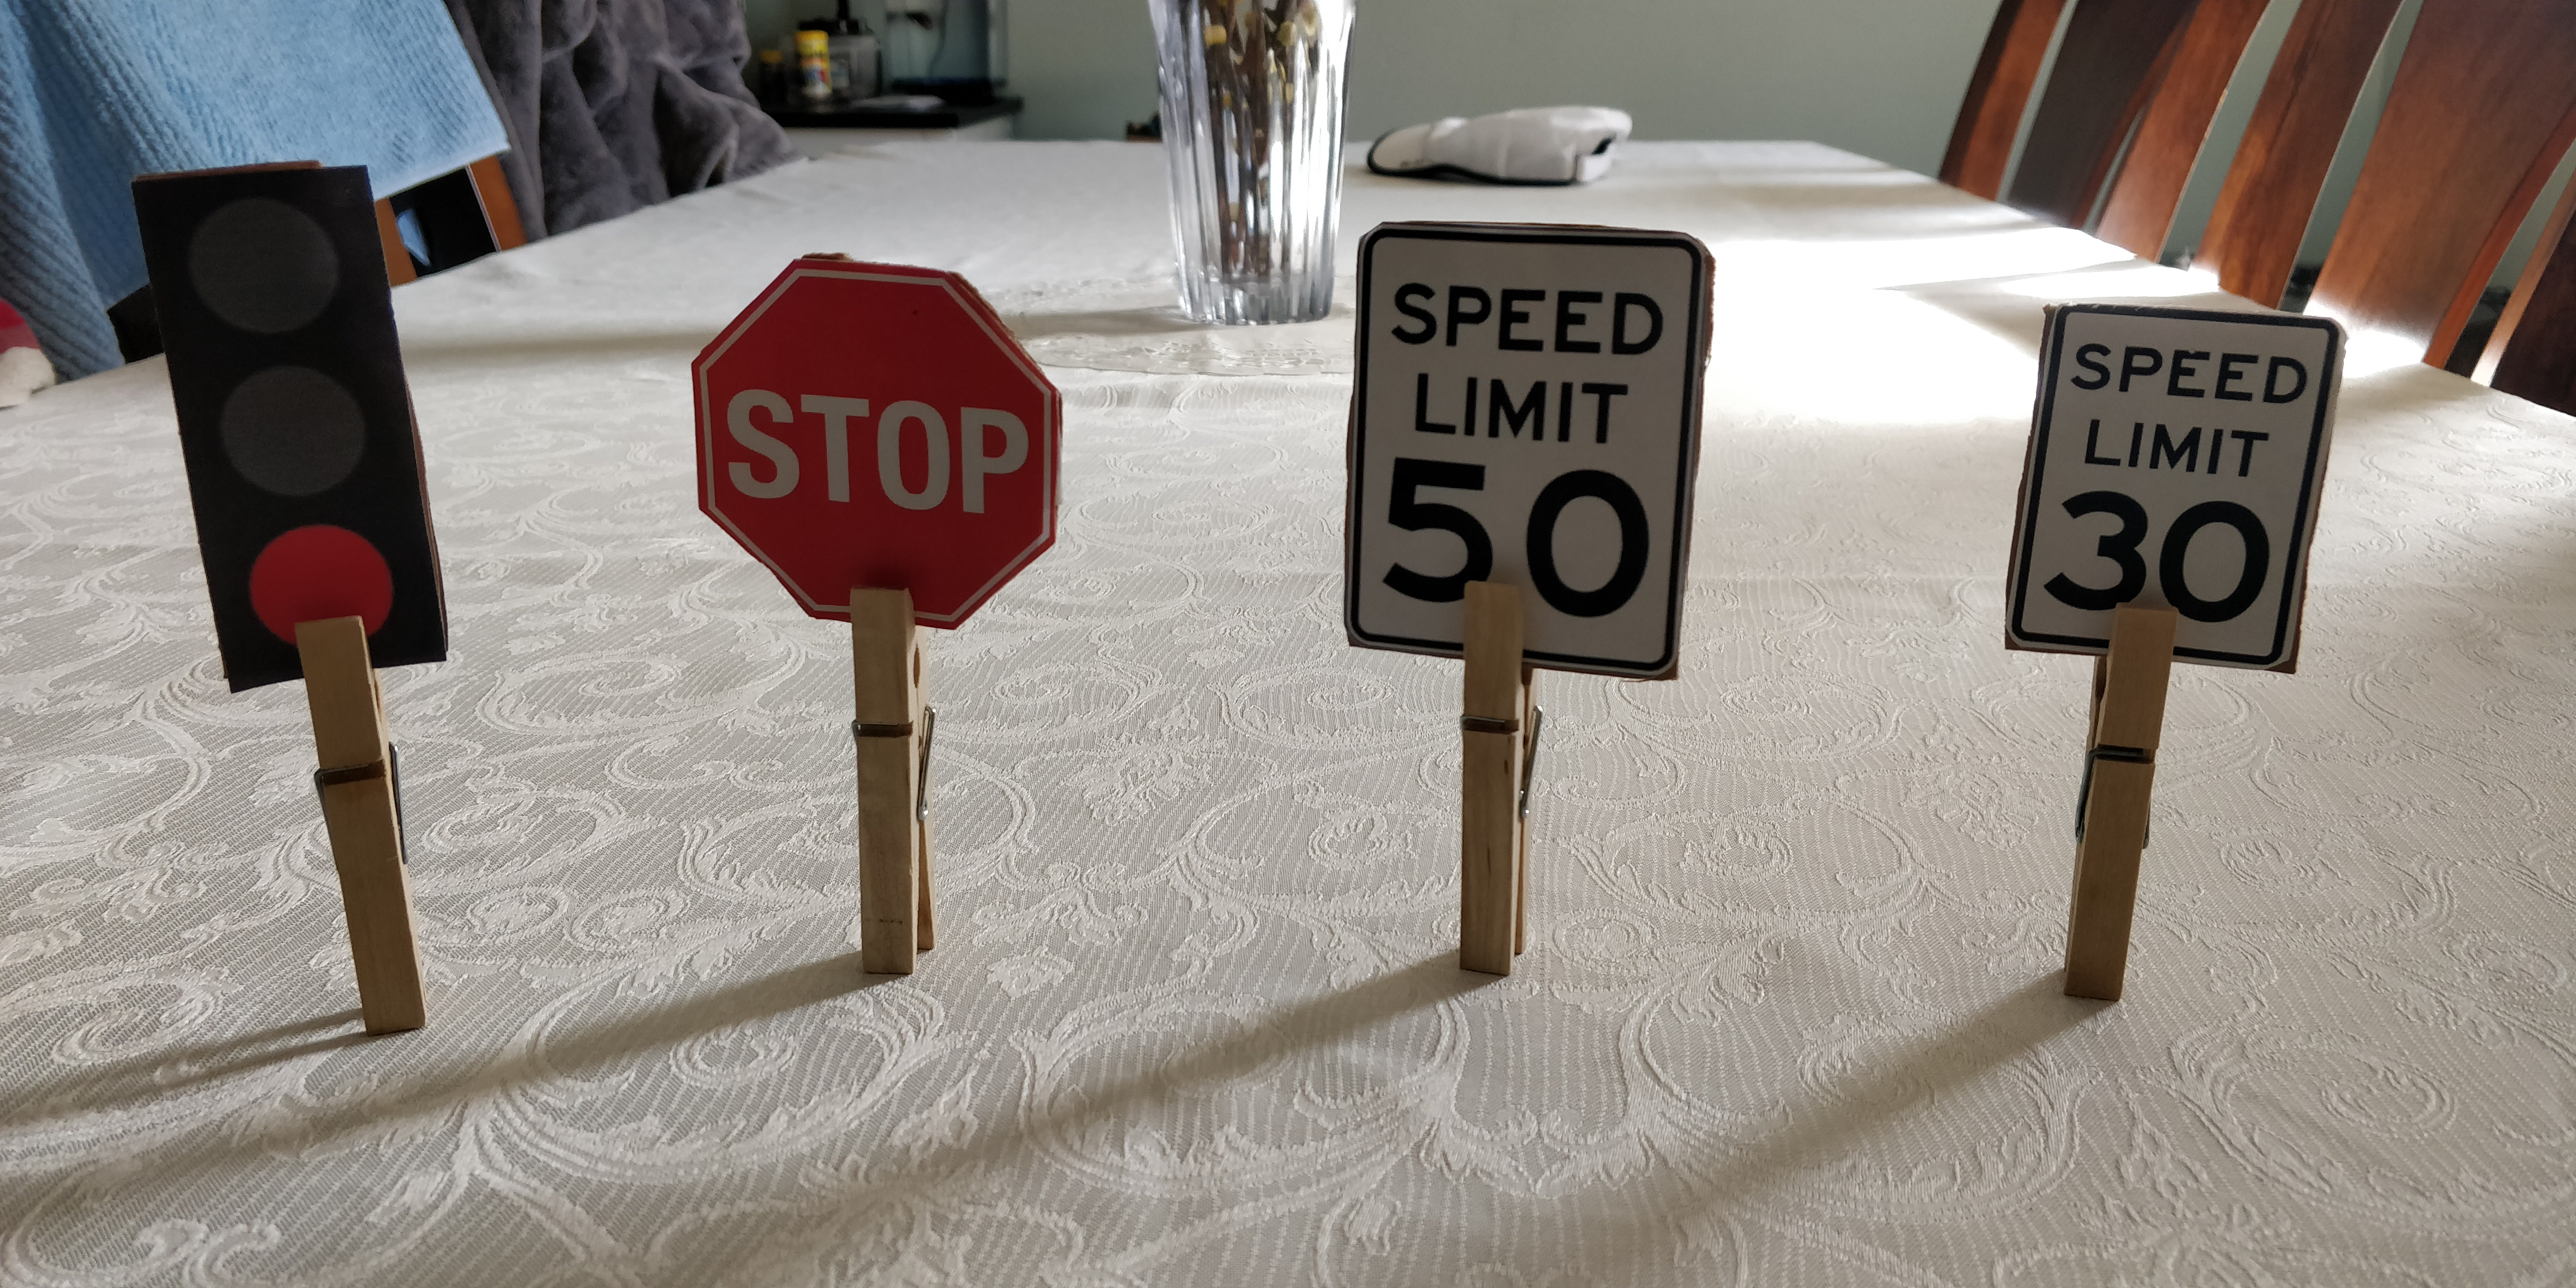Speed Limit 30: (2001, 304, 2346, 672)
Speed Limit 50: (1346, 219, 1712, 674)
Stop Sign: (693, 258, 1065, 628)
red light: (136, 171, 447, 692)
